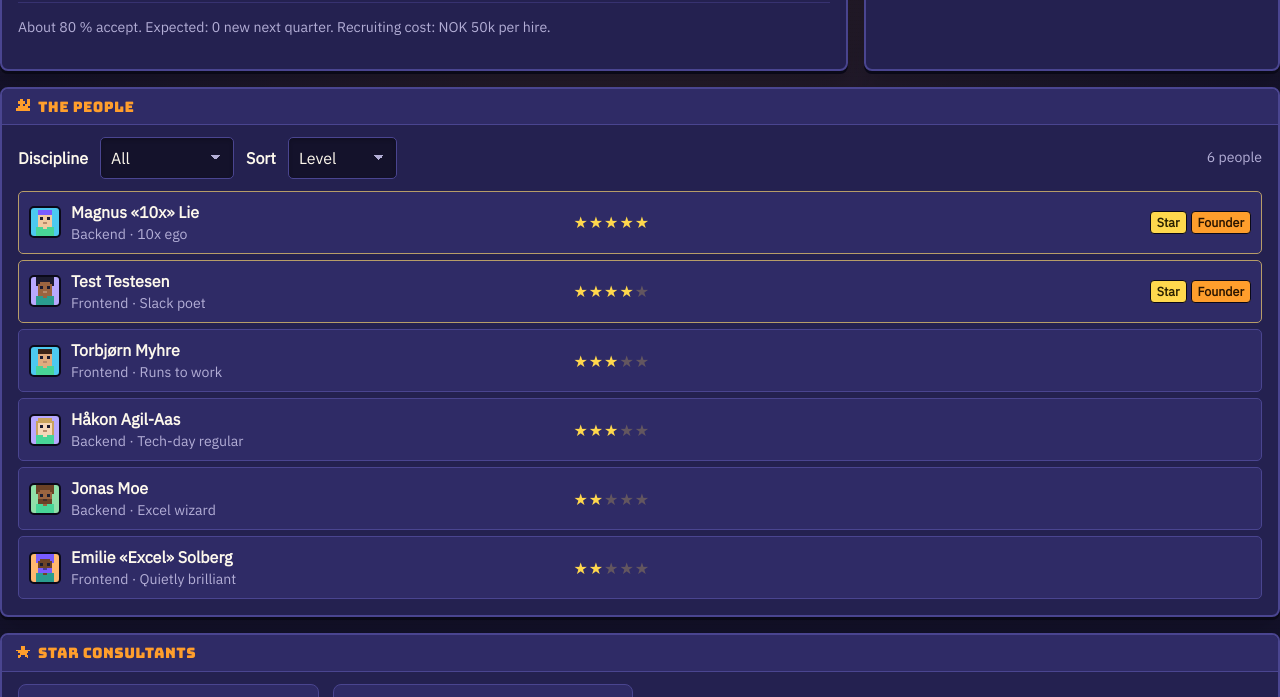
Test: the people on the staff screen › lets a chosen person go from the profile
(page scrolled)
Click the button "Torbjørn Myhre Frontend · Runs to work ★★★★★".
click(640, 361)  # box x1=18 y1=329 x2=1262 y2=392
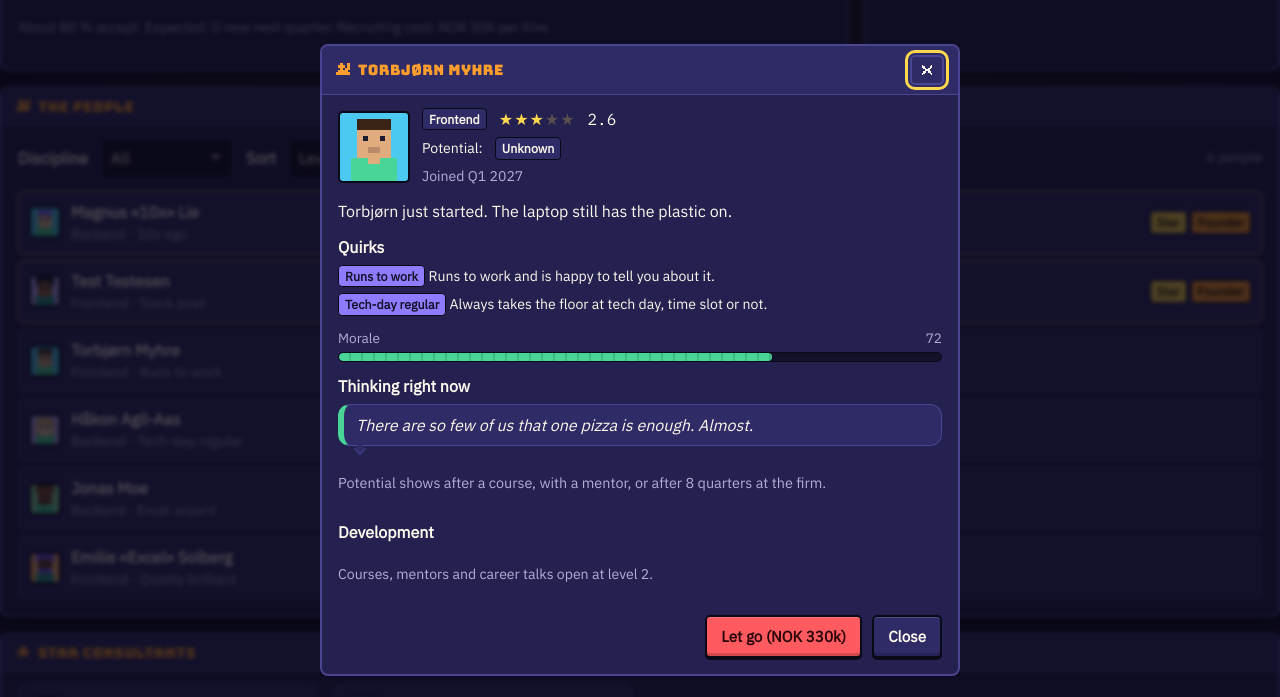
Click the button "Let go (NOK 330k)".
click(784, 637)  # box x1=705 y1=615 x2=862 y2=658
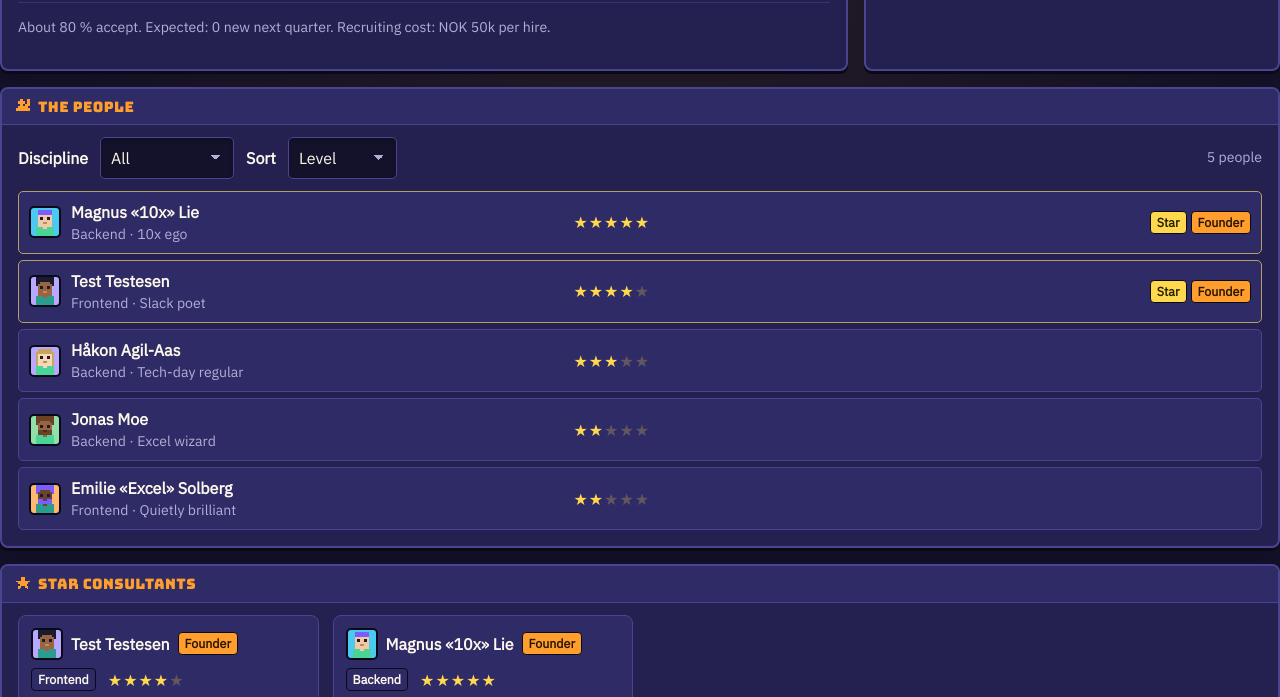
expect the dialog is gone: met
